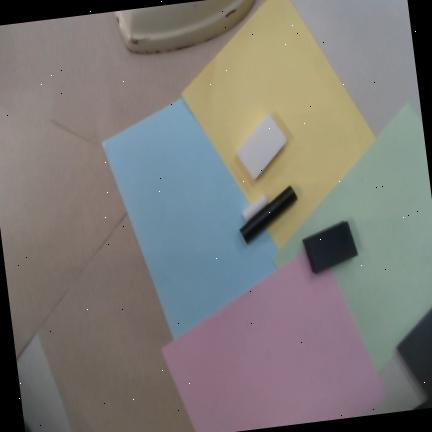Cilindro: (238, 184, 297, 244), (240, 194, 269, 223)
Paralelepipedo: (235, 113, 287, 180), (301, 220, 357, 274)
